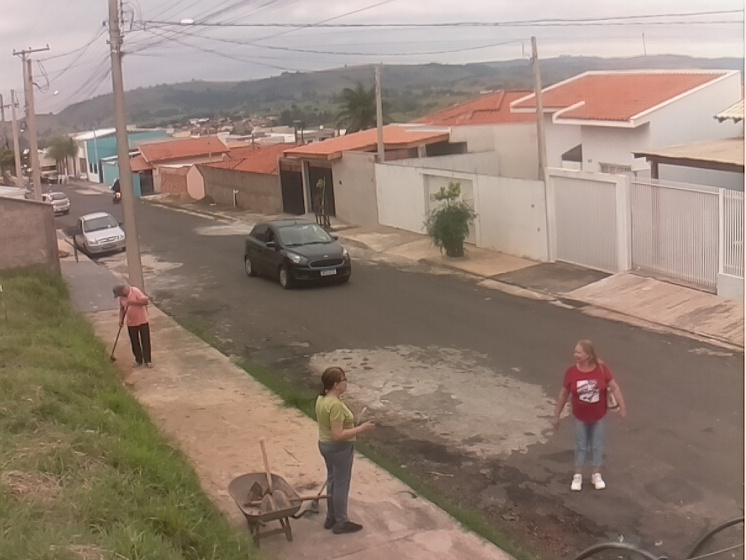person: (551, 338, 629, 492), (313, 364, 377, 536), (111, 282, 155, 370)
